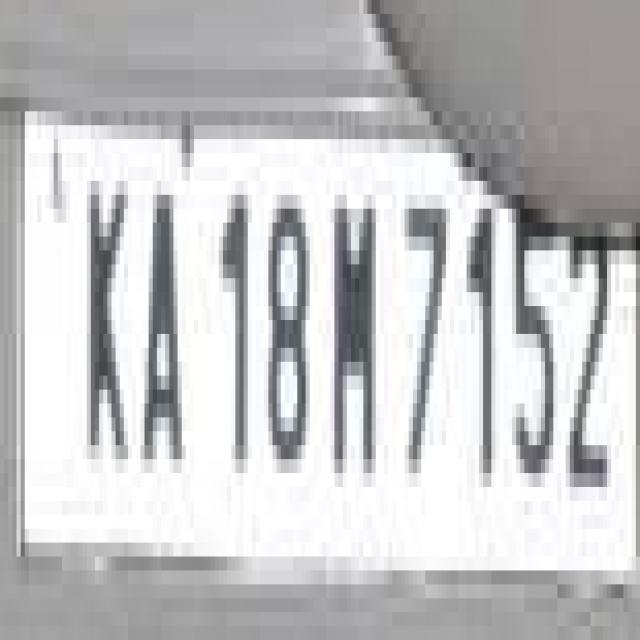license_plate: (0, 97, 611, 626)
